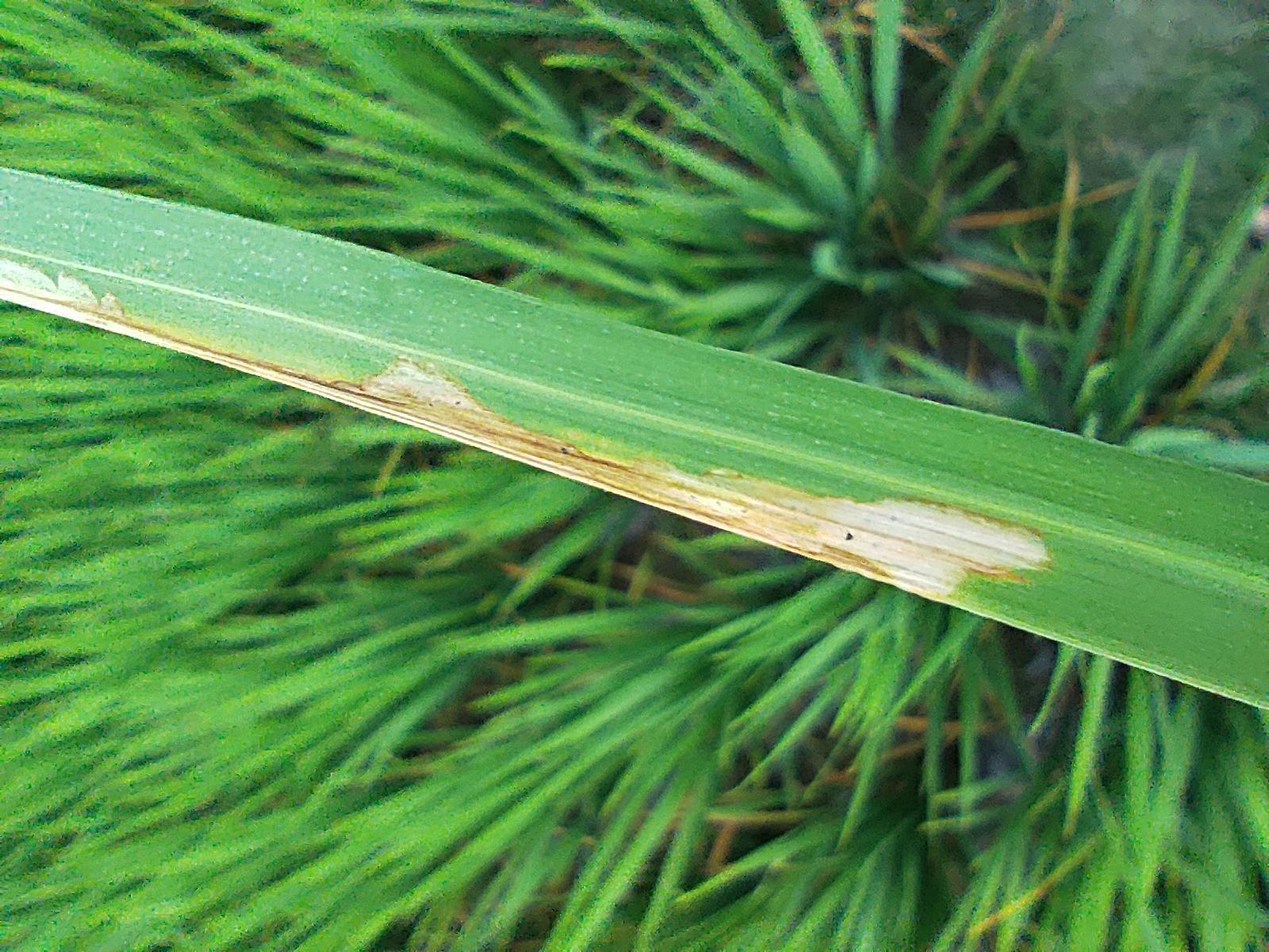BLB: (462, 0, 923, 789)
LEAF: (330, 0, 1042, 951)
